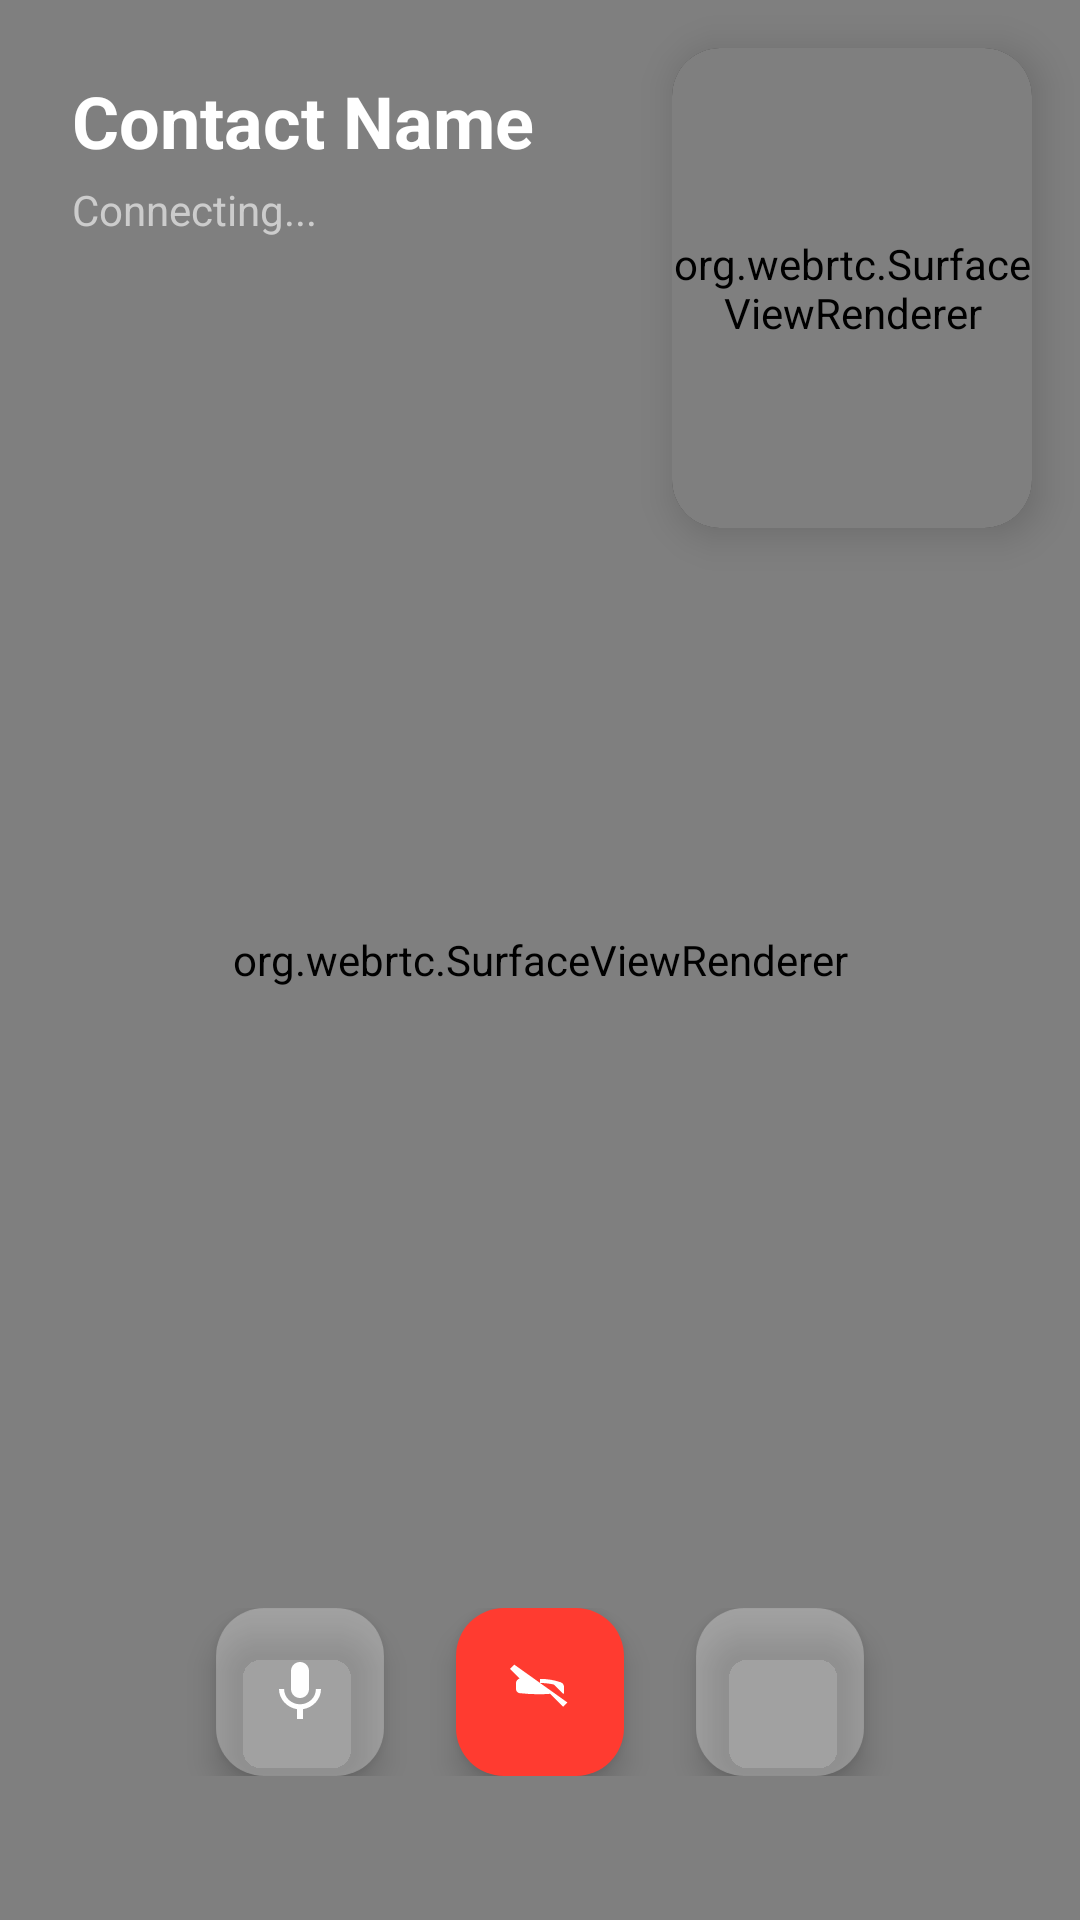

Screen size 1080*1920. Icon name, then its box in pixels as (x1, y1, x2, y2):
mic: (216, 1608, 384, 1768)
phone end: (456, 1608, 624, 1776)
